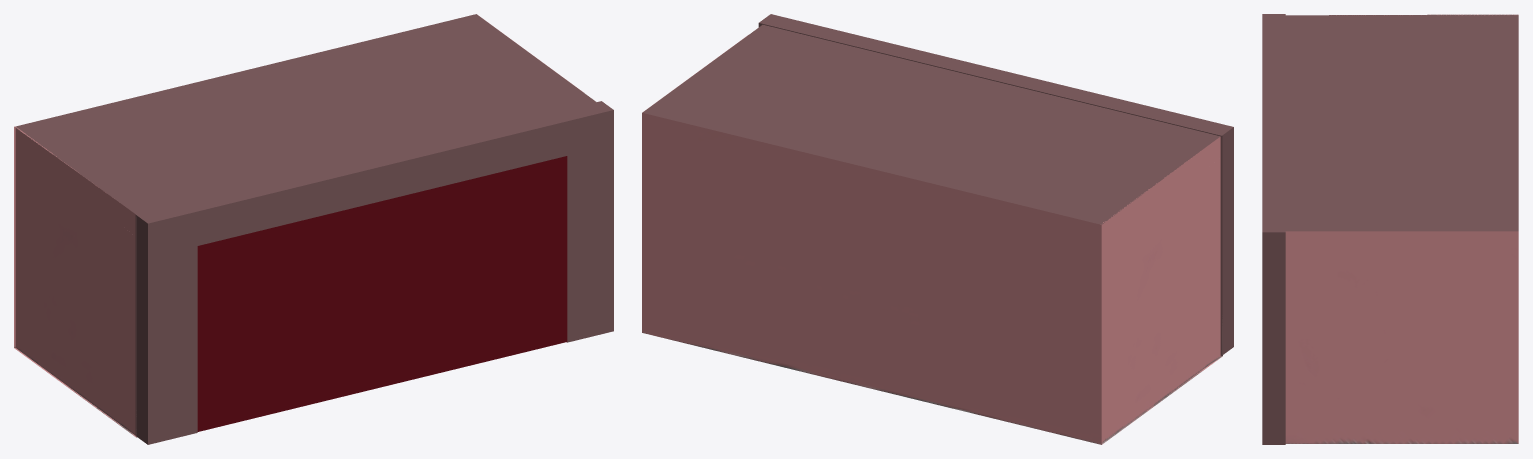
The model's file is Shutter_Door.fbx.
3 views of the same model, side by side, from view 1: azimuth 30°, elevation 25°; view 2: azimuth 150°, elevation 25°; view 3: azimuth 270°, elevation 25° (orthographic). The views are drawn at different scales.
Visible parts, largest first — view 1: pCube2, pCube4, pCube1; view 2: pCube2, pCube1; view 3: pCube2, pCube1.
Part boxes in pixels (x1,y1,x2,y2): pCube2: (14, 14, 596, 437); pCube4: (197, 156, 567, 431); pCube1: (135, 101, 613, 444); pCube2: (642, 24, 1222, 444); pCube1: (758, 14, 1233, 355); pCube2: (1285, 14, 1518, 443); pCube1: (1262, 14, 1285, 444).
Bounding box in the file's own units: 661 × 301 × 328.
Materials: 1 (1 with a texture image).
